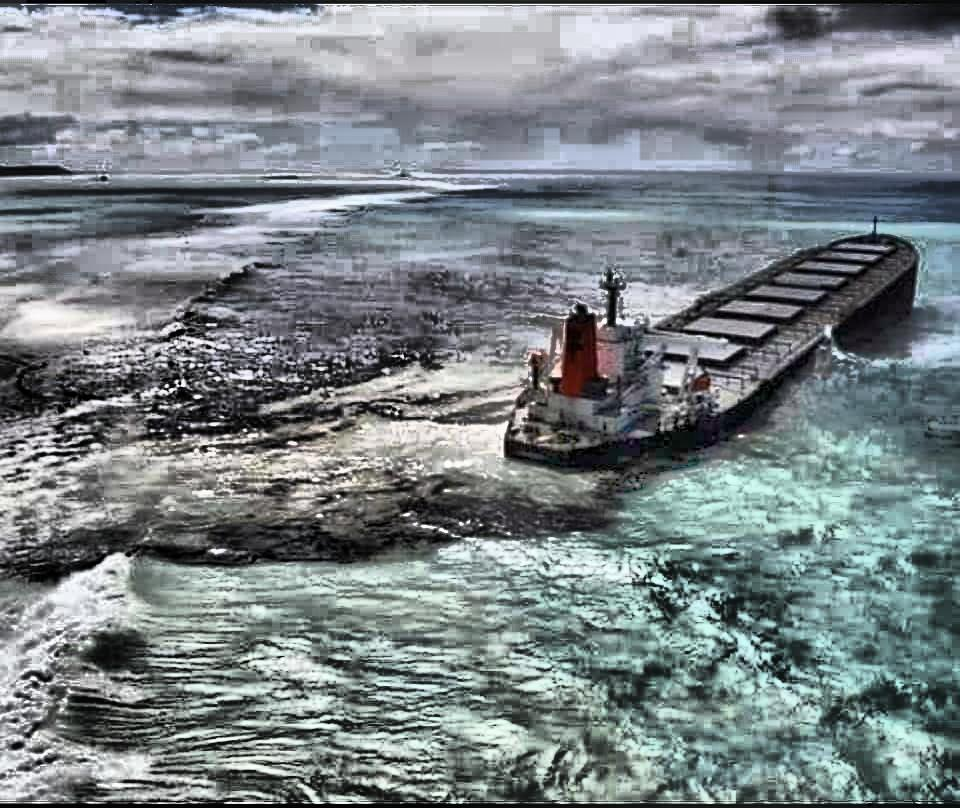sheen: (0, 363, 612, 576)
